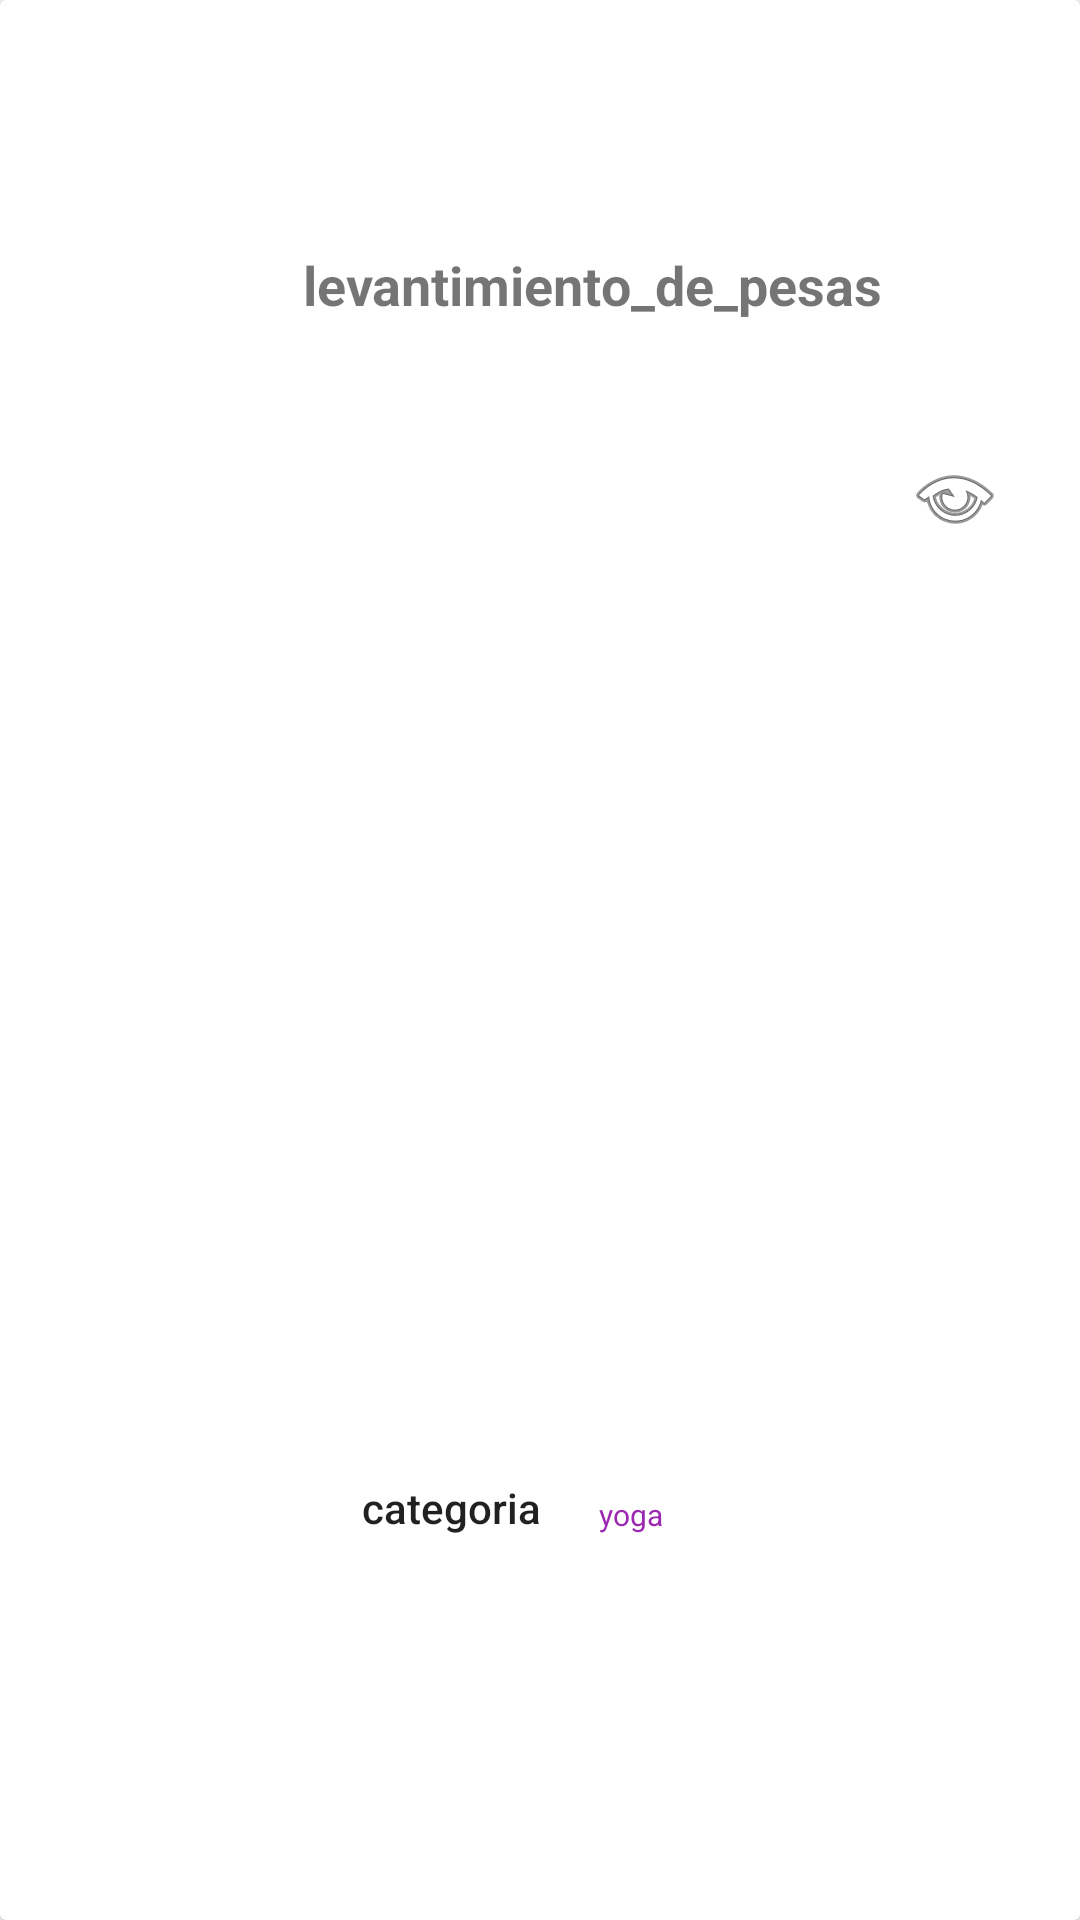

Icon bounding boxes for this 1080 x 1920 phone screenshot, format (x1, y1, x2, y2):
view: (916, 475, 994, 524)
